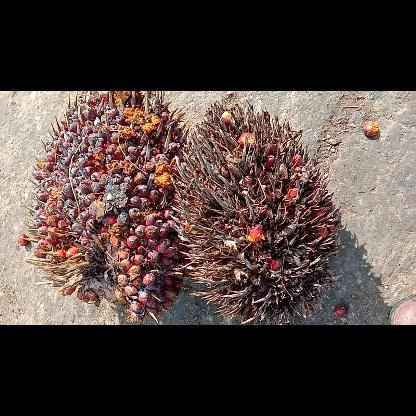TBS masak: (22, 91, 190, 323)
Terlalu masak: (169, 96, 344, 324)
